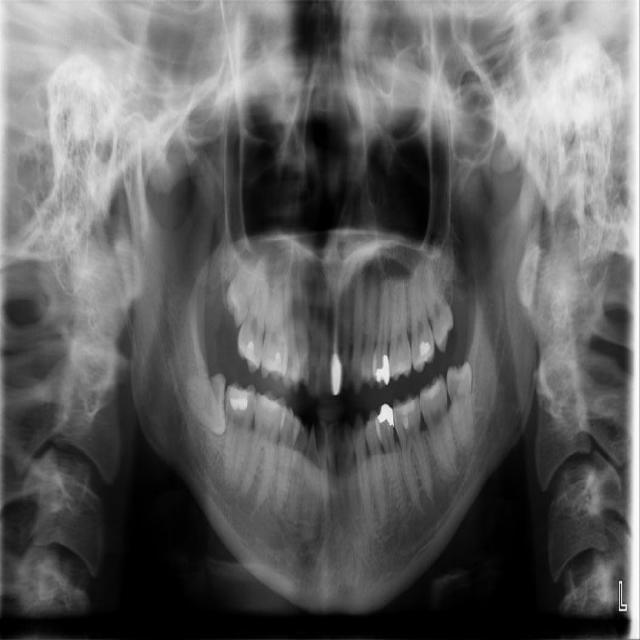Filling: (393, 397, 421, 435), (255, 395, 281, 416), (262, 350, 284, 374), (414, 341, 433, 368), (330, 357, 343, 395), (228, 388, 249, 411), (374, 353, 389, 384), (421, 377, 442, 399), (241, 338, 259, 363), (376, 404, 394, 426), (330, 355, 331, 366), (330, 366, 330, 372)
Root Canal Treatment: (334, 298, 339, 356)
impacted tooth: (178, 374, 227, 433), (227, 251, 261, 326), (448, 363, 476, 451)
